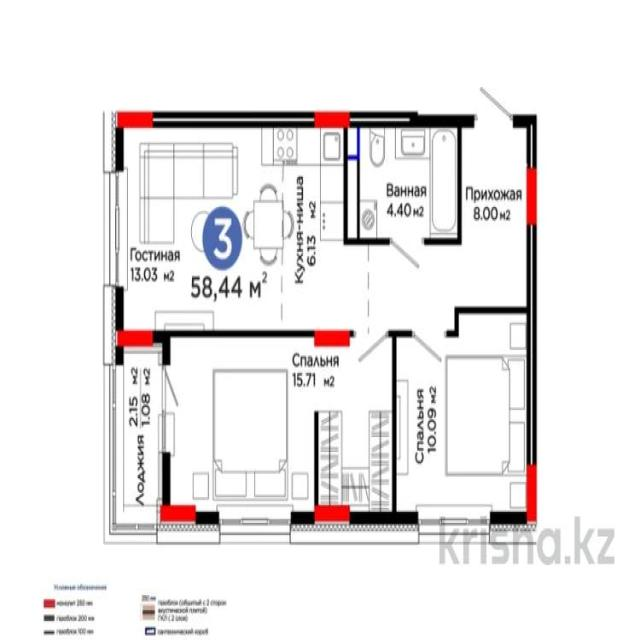balcony: (112, 339, 164, 533)
bathroom: (346, 119, 459, 242)
hallway: (461, 122, 533, 309)
living_room: (168, 334, 393, 518), (394, 336, 534, 524)
studio: (119, 116, 347, 338)
